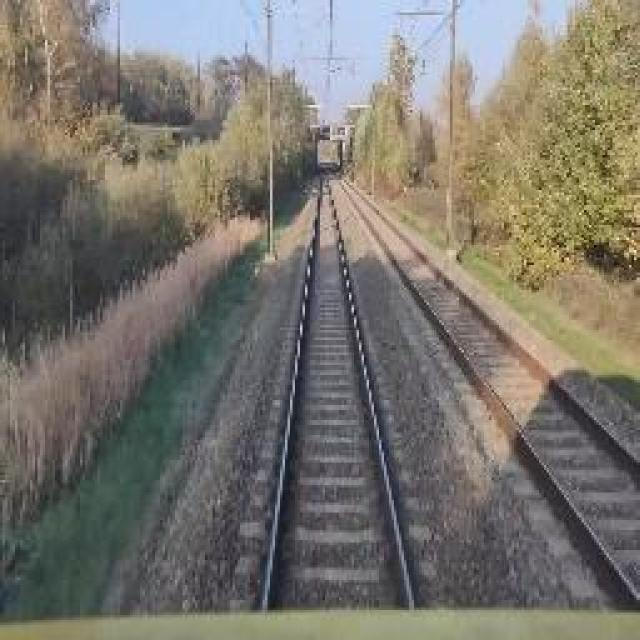rail: (327, 169, 640, 613), (225, 166, 449, 617)
